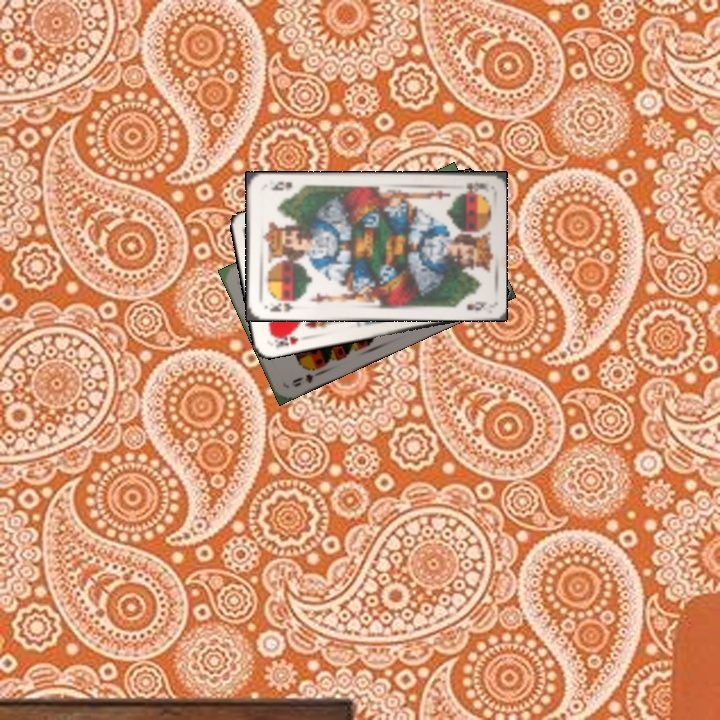HK: (270, 329, 301, 351)
S9: (289, 367, 325, 390)
SK: (261, 296, 300, 314), (462, 179, 489, 195)
